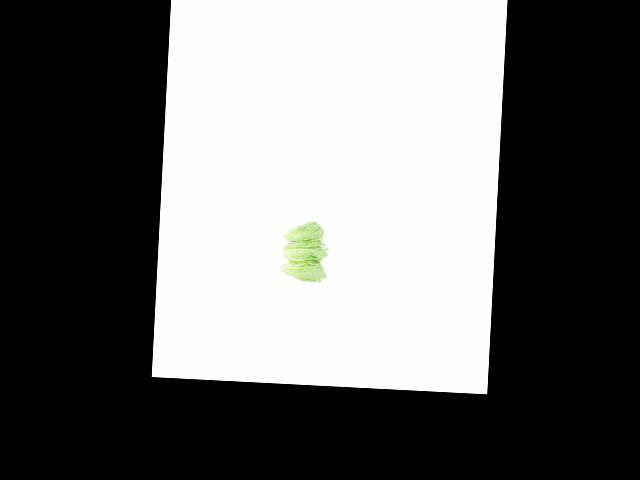lettuce: (272, 219, 326, 246)
